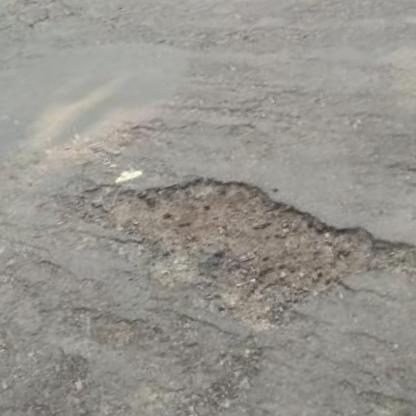pothole: (63, 88, 416, 388)
